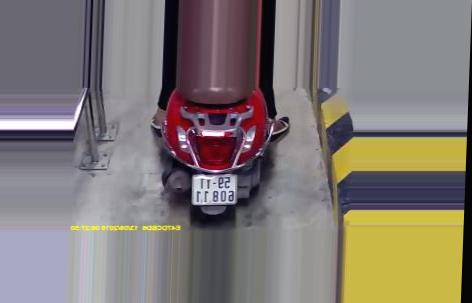License_Plate: (189, 170, 242, 209)
